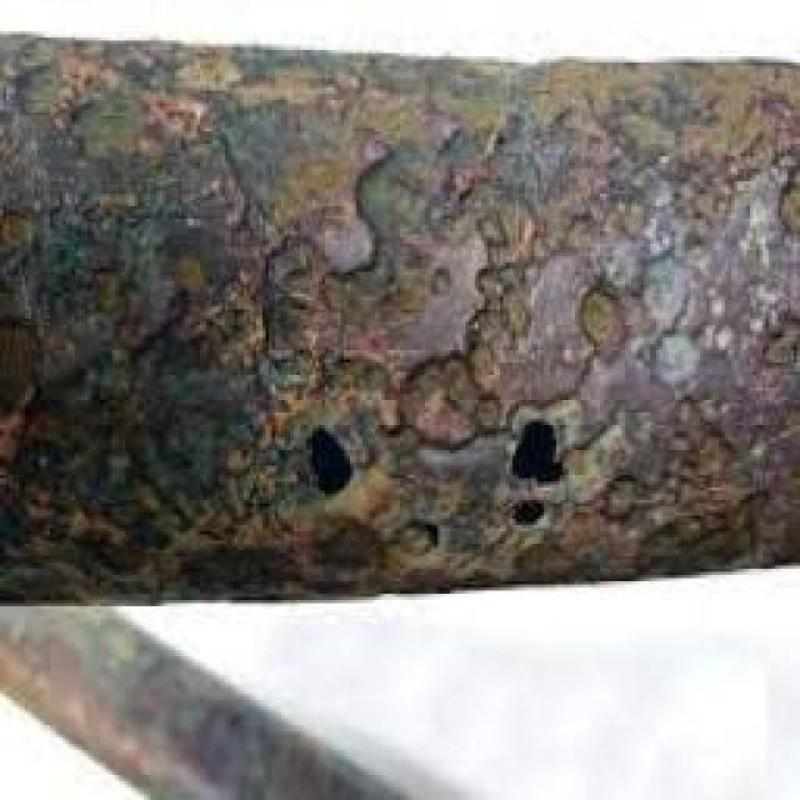Fracture: (495, 401, 583, 493), (295, 409, 367, 508)
corrosion: (4, 25, 800, 594)
